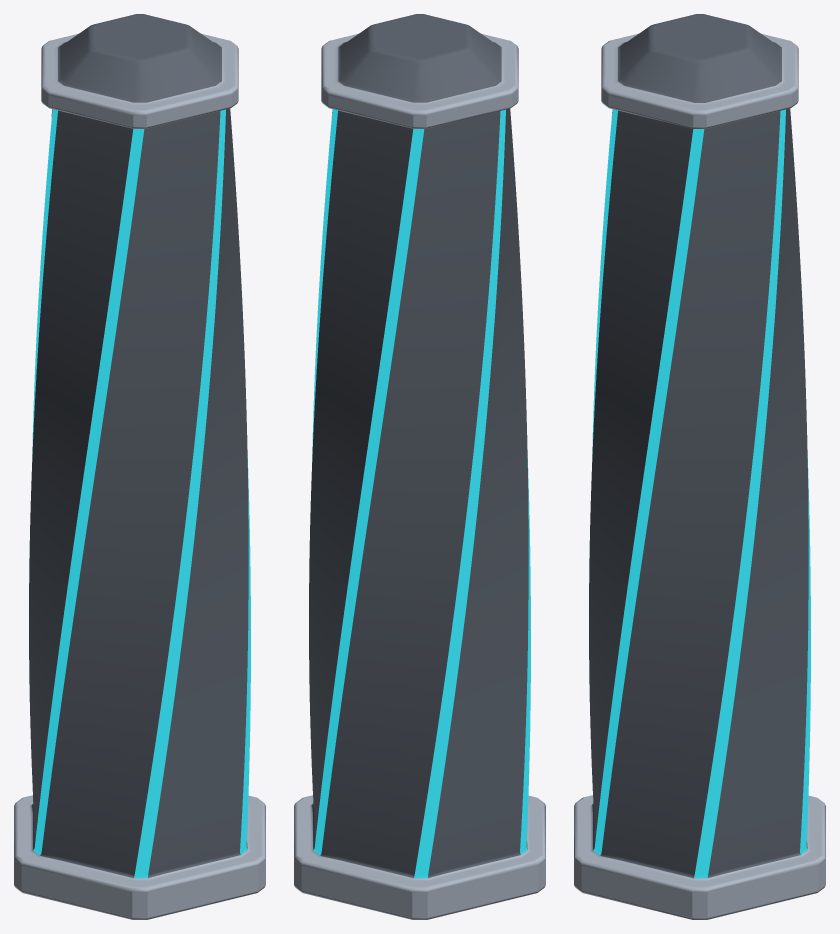
File: column-prism.glb
The picture shows the model from 3 angles, left to right: view 1: azimuth 30°, elevation 25°; view 2: azimuth 150°, elevation 25°; view 3: azimuth 270°, elevation 25°; orthographic projection.
Parts seen in each view (by area): view 1: column-prism-body; view 2: column-prism-body; view 3: column-prism-body.
Part boxes in pixels (bbox=[...]): column-prism-body: bbox=[14, 14, 265, 919]; column-prism-body: bbox=[294, 14, 545, 919]; column-prism-body: bbox=[574, 14, 825, 919].
Bounding box in the file's own units: 3.22 × 10.4 × 2.88.
